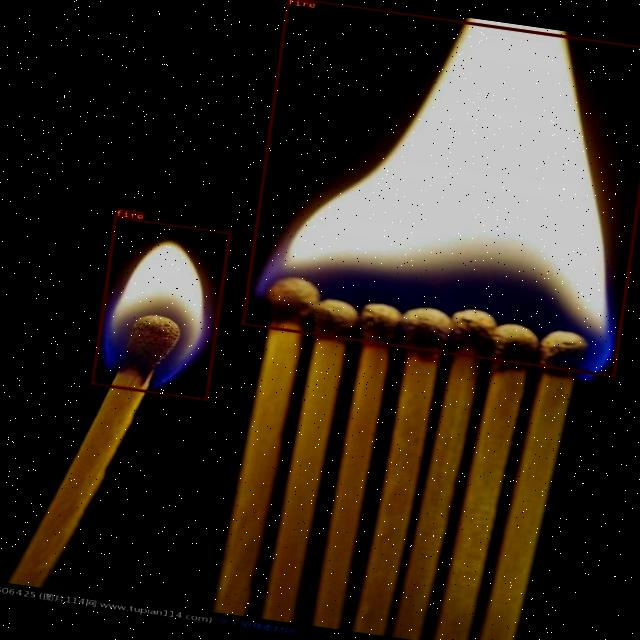fire: (240, 0, 640, 377), (90, 215, 231, 400)
